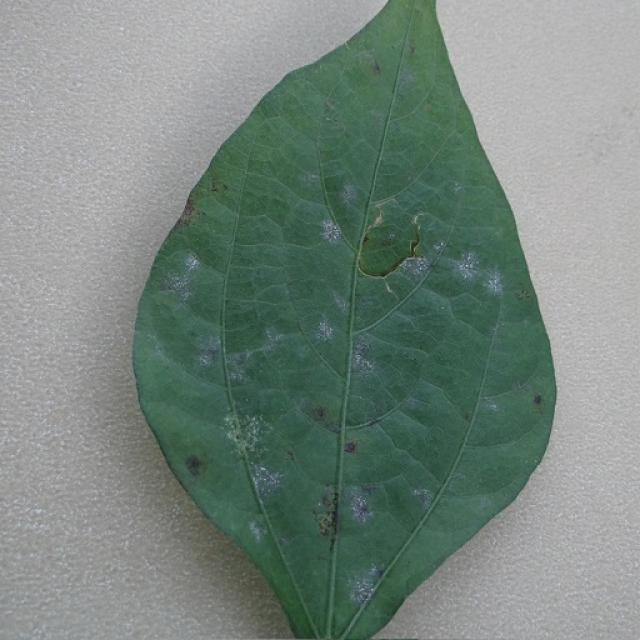Blackgram: (132, 0, 555, 639)
Powdery_Mildew: (298, 289, 392, 370), (132, 333, 183, 387), (349, 559, 388, 613), (230, 413, 269, 455), (223, 343, 262, 383), (167, 262, 198, 301), (252, 465, 283, 499), (456, 253, 485, 283), (350, 572, 377, 604), (261, 330, 290, 359), (480, 268, 504, 295), (350, 492, 371, 520), (351, 349, 372, 373), (332, 291, 352, 314), (227, 362, 247, 384), (248, 520, 267, 542), (410, 256, 429, 274), (415, 489, 433, 508), (301, 169, 321, 185), (317, 321, 334, 339), (324, 222, 341, 240), (185, 254, 201, 272), (341, 184, 357, 202), (481, 400, 500, 415), (200, 350, 216, 366), (262, 326, 277, 343), (477, 498, 492, 513), (370, 565, 383, 579), (433, 239, 446, 253)
